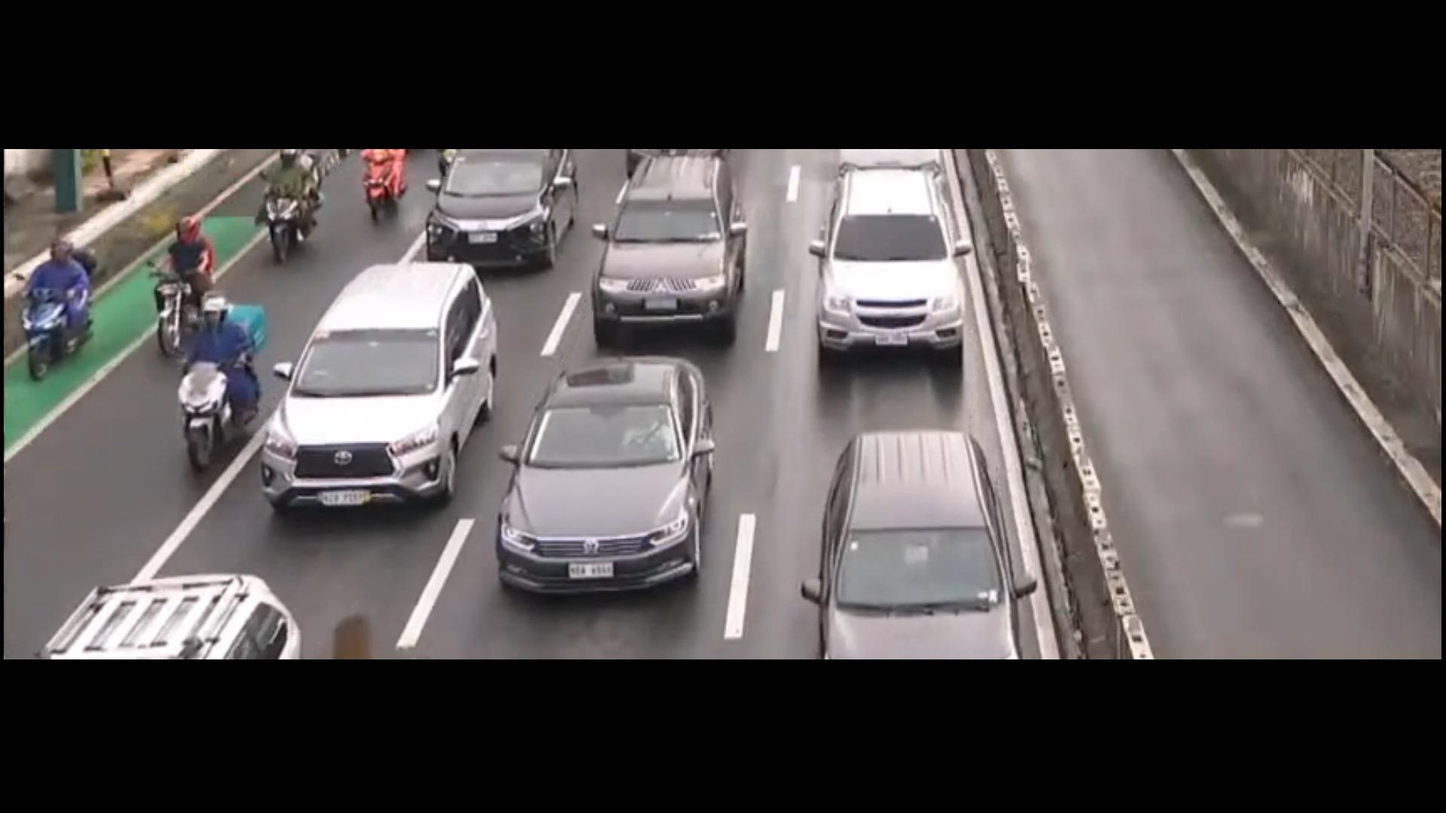Motorcycle: (177, 280, 265, 476), (17, 233, 98, 386), (147, 201, 215, 371), (251, 151, 330, 262), (345, 150, 419, 224)
SUV: (260, 260, 501, 516), (800, 431, 1037, 655), (591, 156, 746, 337), (817, 171, 960, 352), (426, 147, 580, 277)
Sedan: (495, 354, 714, 595)
